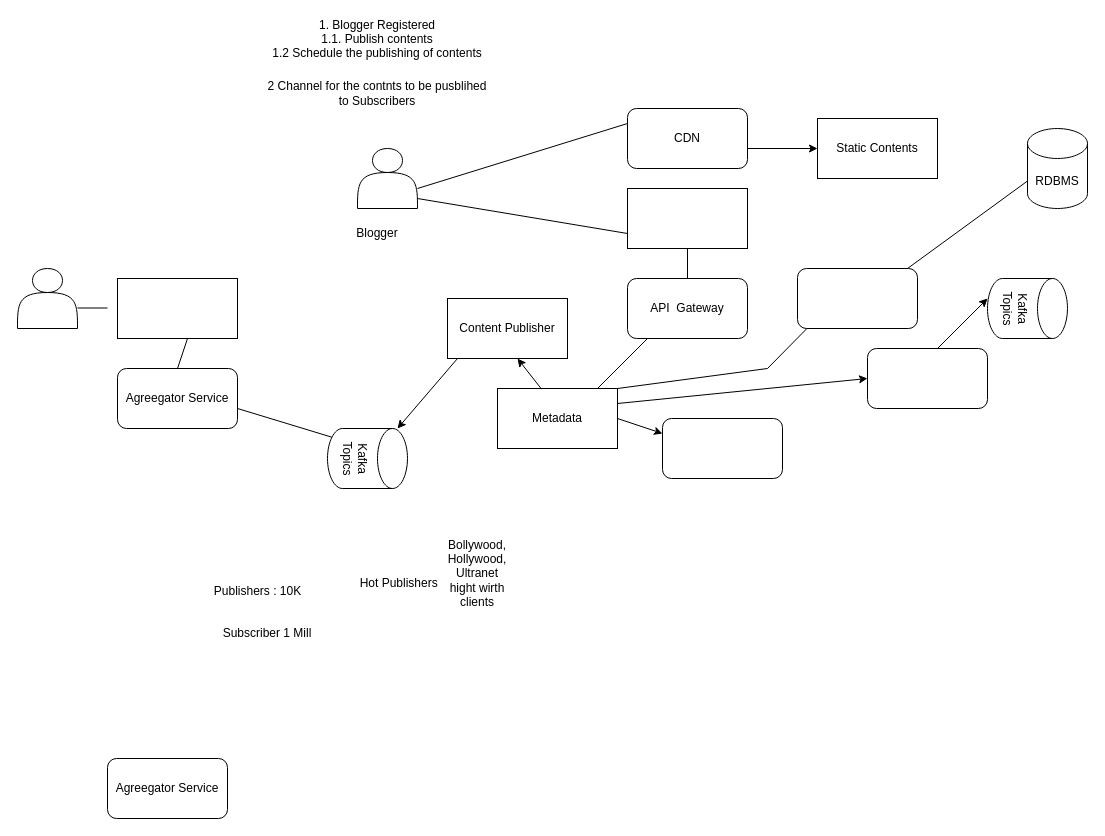
Image size: 1105x836. Some labels were removed from this diagram. The box of each missing label's shape, as (x1, y1, x2, y2) in pixels:
BlogService: (662, 418, 782, 478)
Load Balancer: (626, 188, 748, 248)
Notification Service: (116, 278, 238, 338)
RegistrationService: (796, 268, 918, 328)
Streaming Service: (866, 348, 988, 408)
